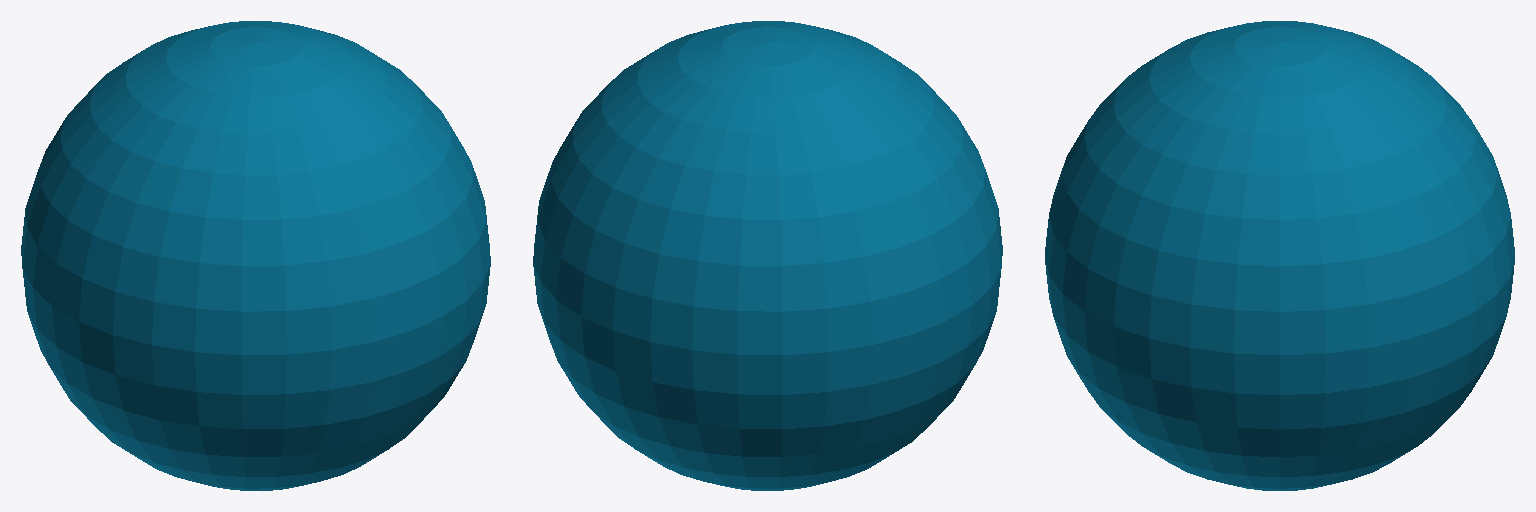
The model's file is blueSphere2.obj.
The picture shows the model from 3 angles: view 1: azimuth 30°, elevation 25°; view 2: azimuth 150°, elevation 25°; view 3: azimuth 270°, elevation 25°; orthographic projection.
Parts seen in each view (by area): view 1: Sphere; view 2: Sphere; view 3: Sphere.
Boxes of the visible parts, x1,y1,x2,y2 form: Sphere: [21, 21, 490, 490]; Sphere: [533, 21, 1002, 490]; Sphere: [1045, 21, 1514, 490].
Size of the model in its own units: 2 by 2 by 2.